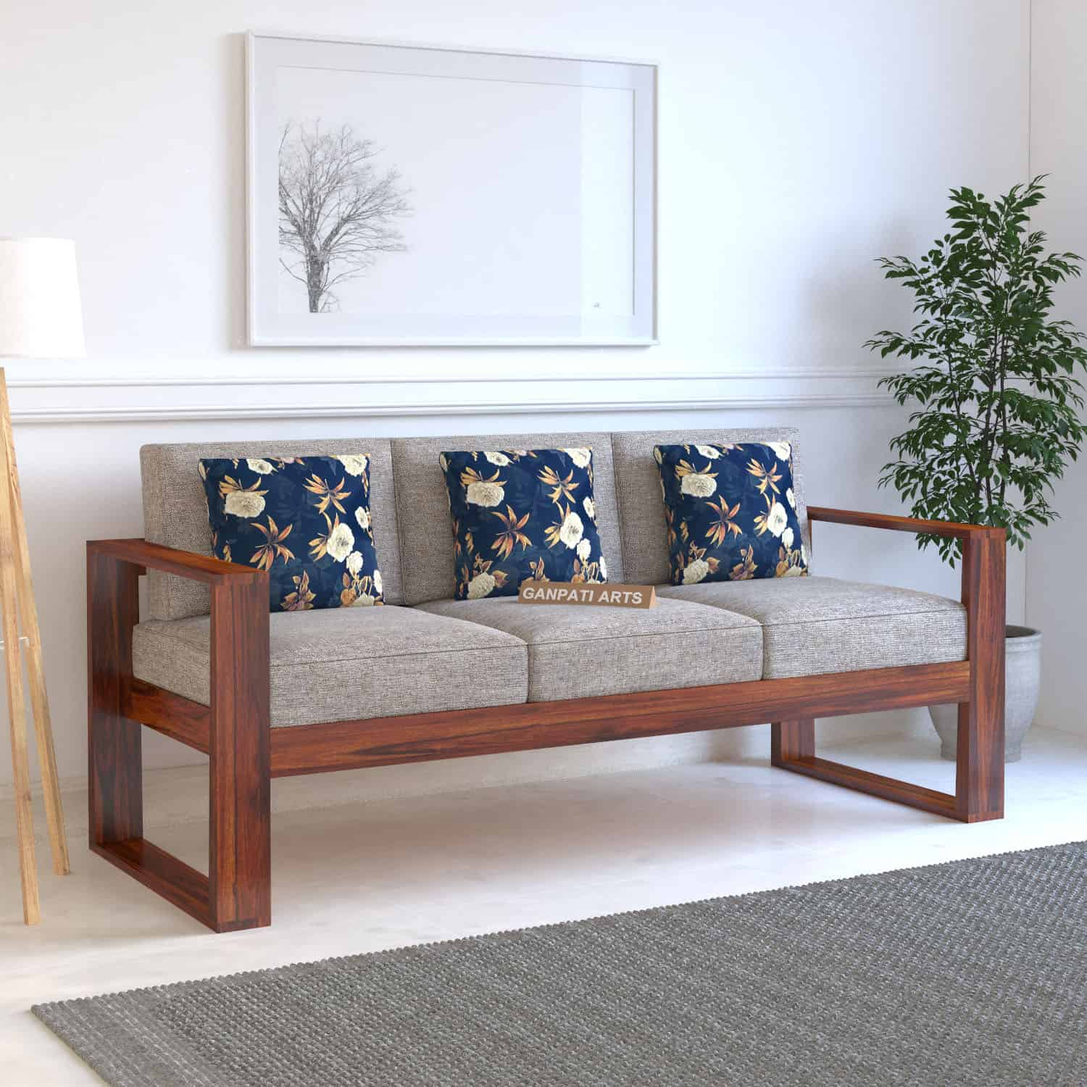3seatersofa: (86, 424, 1004, 930)
backrest: (141, 428, 801, 604), (151, 575, 207, 619)
base: (272, 662, 969, 776)
leftarmrest: (808, 506, 1004, 665)
leg: (88, 705, 270, 930), (771, 664, 1002, 822)
pillow: (198, 455, 384, 610), (440, 449, 606, 599), (654, 442, 807, 584)
rightarmrest: (87, 540, 270, 786)
seat: (270, 577, 965, 728)
